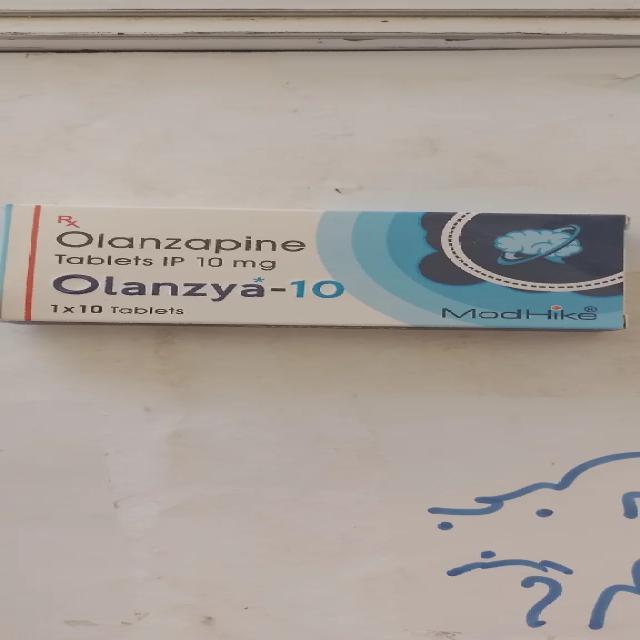drug-name: (45, 272, 346, 300)
